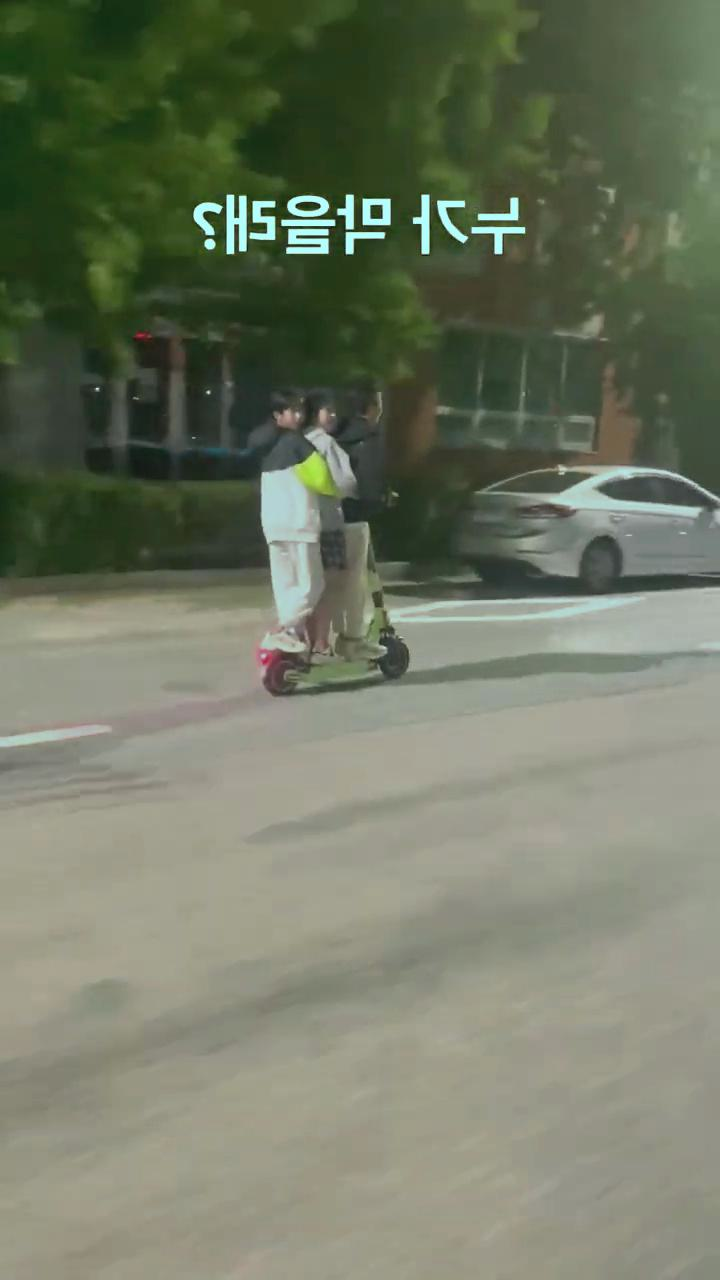multiple: (242, 374, 419, 697)
